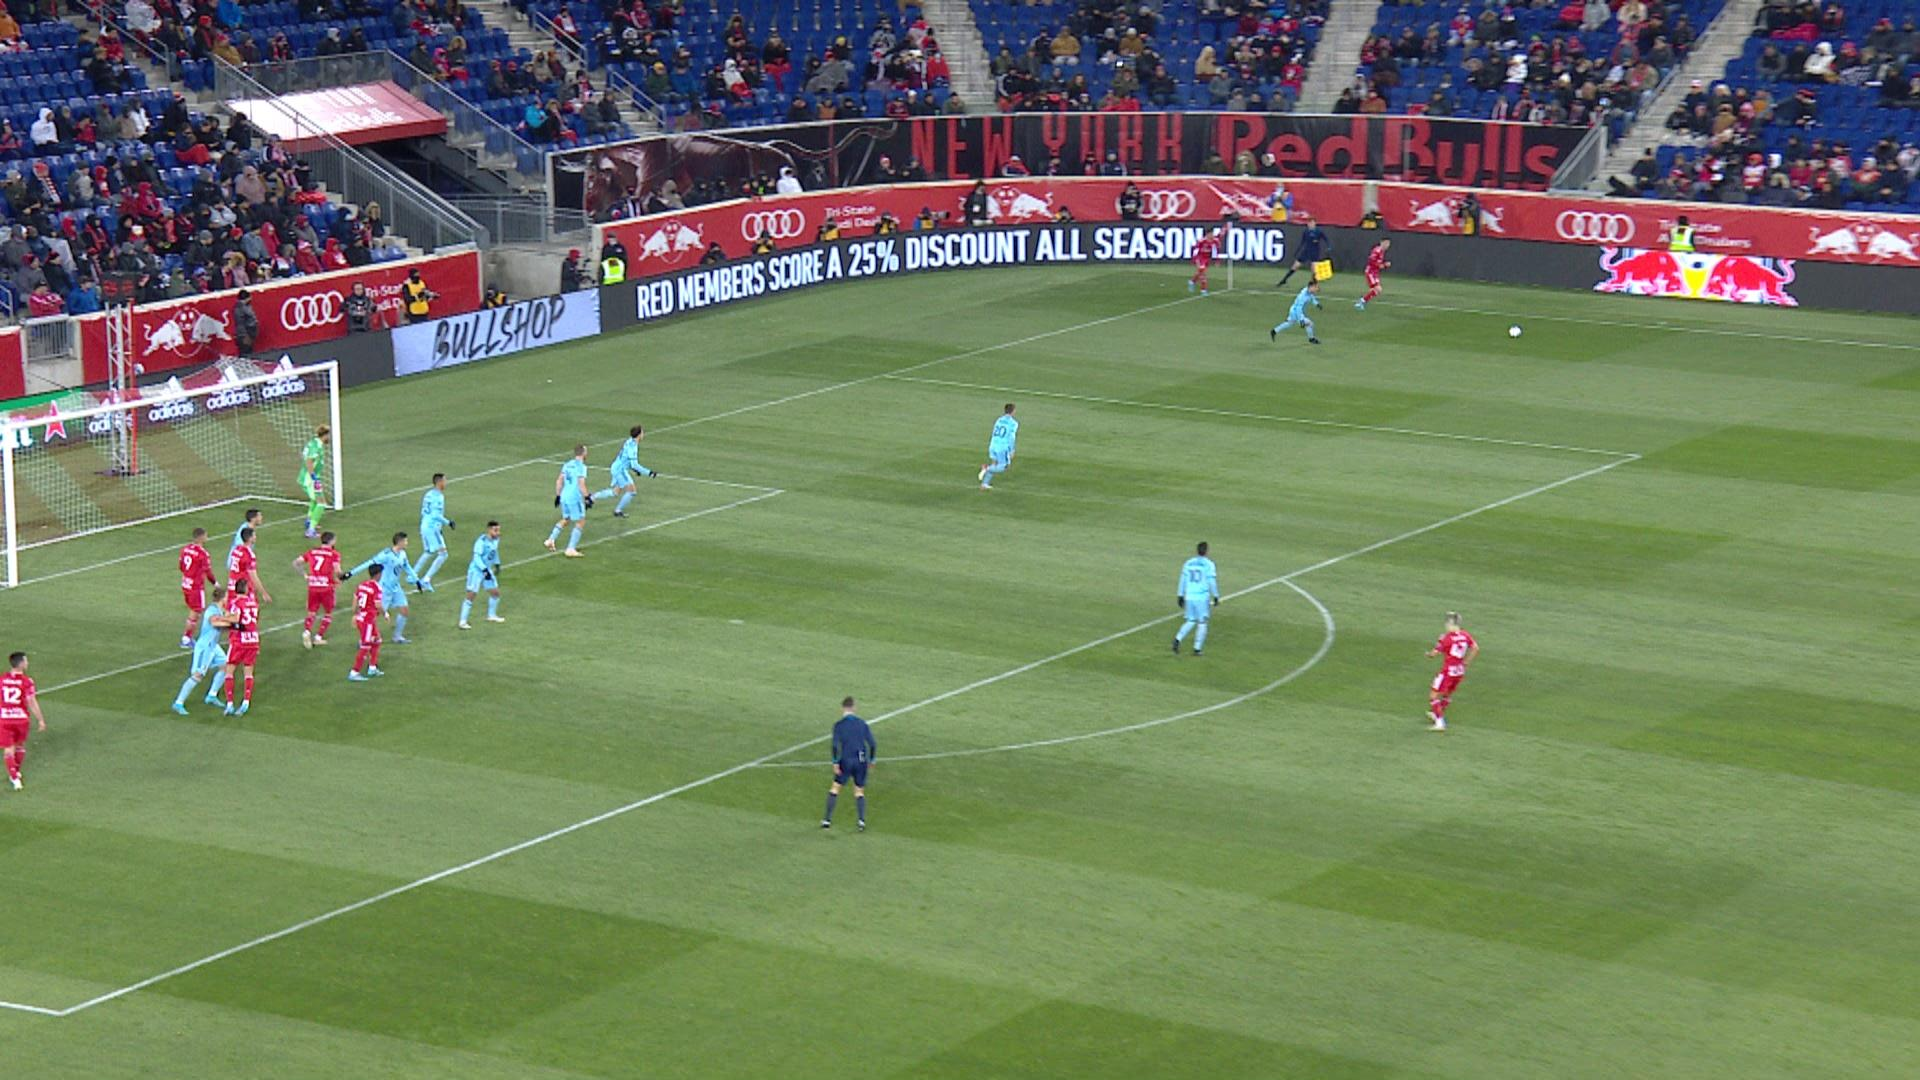football: (1507, 323, 1523, 338)
